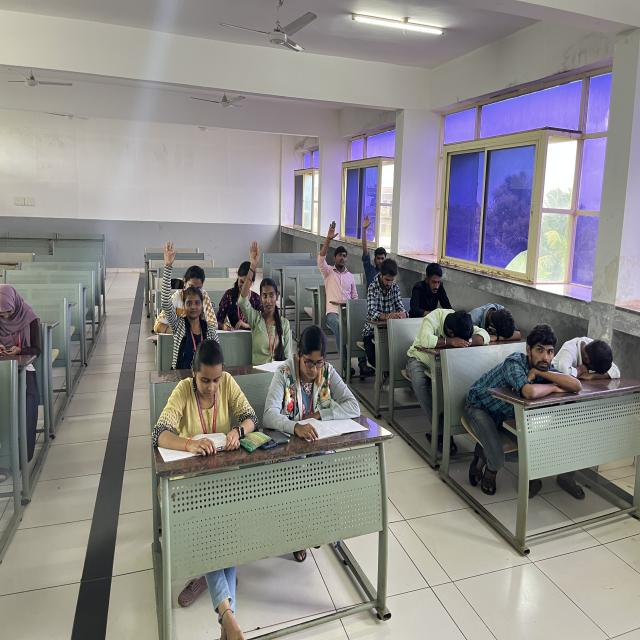Hand Rising: (151, 232, 219, 346), (238, 232, 301, 343), (313, 213, 359, 316), (357, 210, 394, 280)
Reading: (154, 330, 259, 444), (262, 318, 367, 429)
Sleeping: (418, 292, 483, 372), (562, 317, 622, 397), (468, 274, 525, 346)
Using Phone: (0, 271, 45, 387), (362, 246, 408, 335), (410, 252, 455, 318)
Writing: (211, 252, 266, 336)
